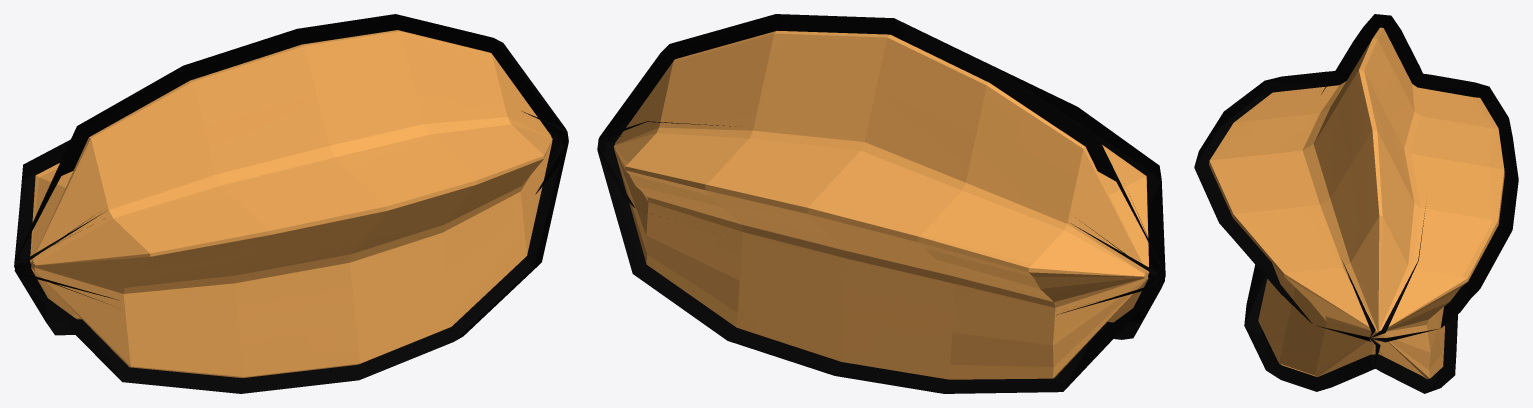
The model's file is CarambolaBlockOnGround.fbx.
The picture shows the model from 3 angles, left to right: view 1: azimuth 30°, elevation 25°; view 2: azimuth 150°, elevation 25°; view 3: azimuth 270°, elevation 25°; orthographic projection. The views are drawn at different scales.
Parts seen in each view (by area): view 1: Cylinder.001, Cylinder.002; view 2: Cylinder.001, Cylinder.002; view 3: Cylinder.001, Cylinder.002.
Boxes of the visible parts, left/top/right/bottom form: Cylinder.001: left=30, top=30, right=552, bottom=378; Cylinder.002: left=14, top=14, right=568, bottom=393; Cylinder.001: left=613, top=30, right=1149, bottom=379; Cylinder.002: left=597, top=14, right=1165, bottom=393; Cylinder.001: left=1208, top=27, right=1504, bottom=379; Cylinder.002: left=1194, top=14, right=1518, bottom=393.
Size of the model in its own units: 89.25 by 49.16 by 50.9.
